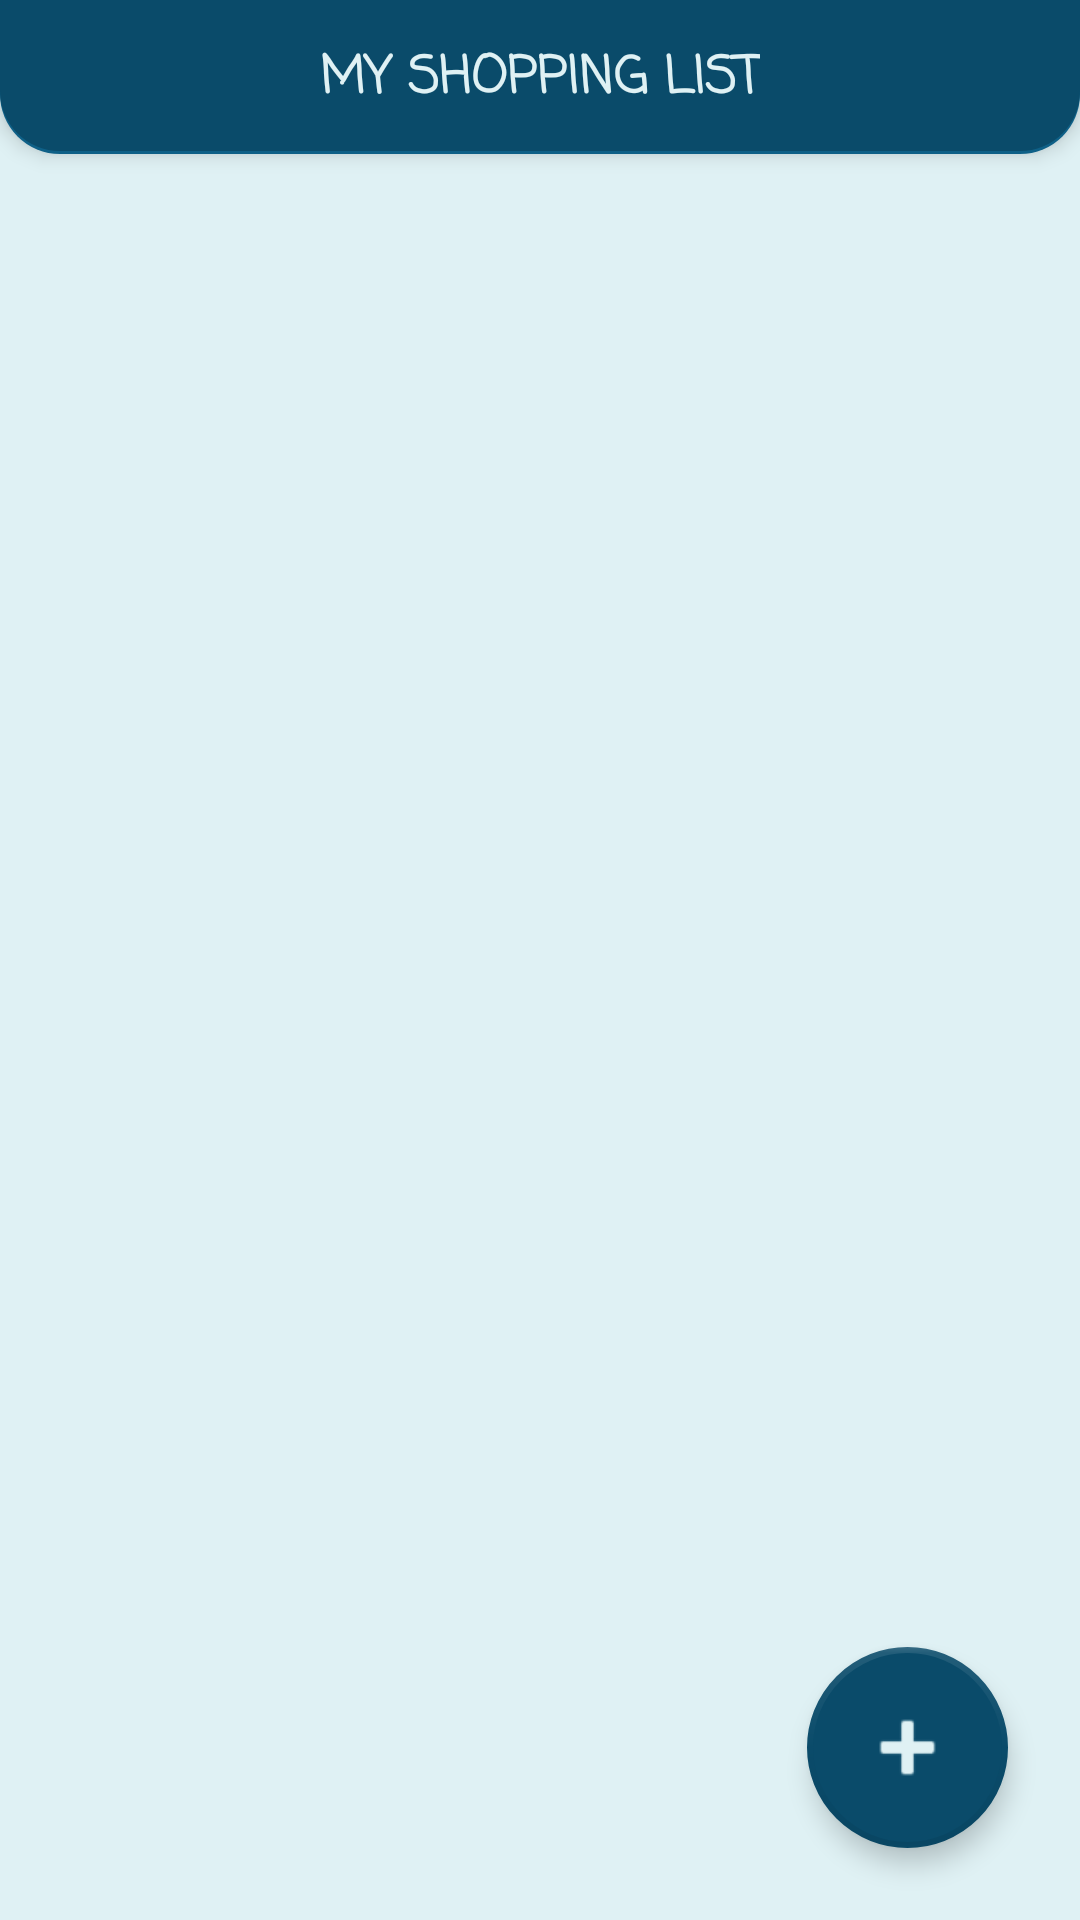

Icon click points for this 1080×1920 phone screenshot, format (x,y):
Add new item: (907,1747)
